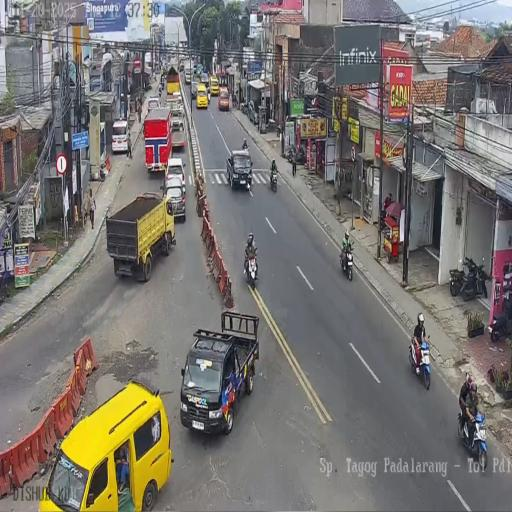3: (106, 190, 178, 282), (144, 106, 172, 174), (166, 65, 179, 95), (184, 62, 194, 84), (144, 52, 153, 74), (196, 65, 202, 80), (202, 71, 208, 85)
car: (37, 380, 170, 510), (225, 148, 252, 191), (164, 157, 186, 191), (112, 119, 130, 154), (246, 100, 259, 125), (196, 83, 208, 109), (218, 87, 230, 111), (146, 96, 160, 113), (209, 75, 219, 96), (191, 80, 197, 99), (179, 60, 184, 72)
truck: (458, 404, 488, 470), (408, 332, 430, 389), (491, 297, 512, 343), (449, 256, 471, 296), (339, 241, 353, 281), (244, 250, 258, 290), (288, 142, 306, 166), (270, 166, 278, 194), (240, 100, 248, 115), (276, 124, 281, 138), (160, 75, 165, 89)
